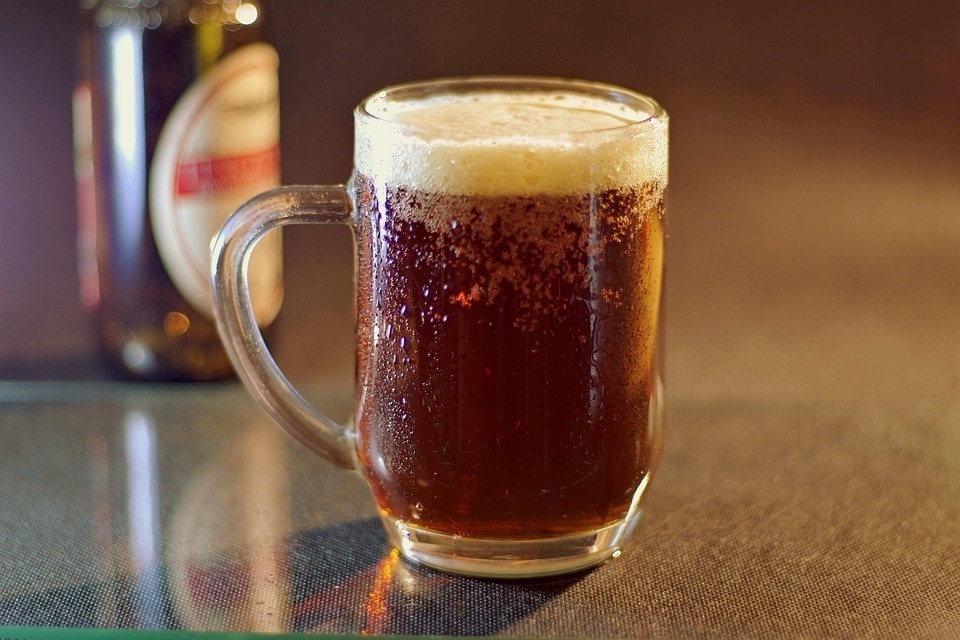whiskey: (324, 85, 672, 568)
